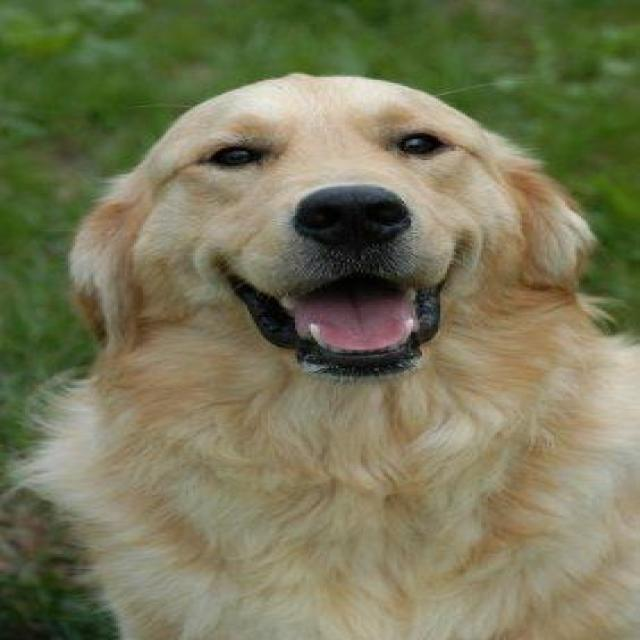adult_dog: (24, 75, 640, 640)
